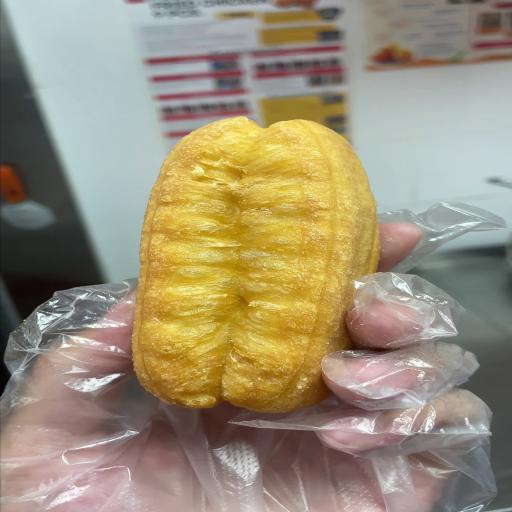brand_golden_good: (132, 118, 379, 412)
